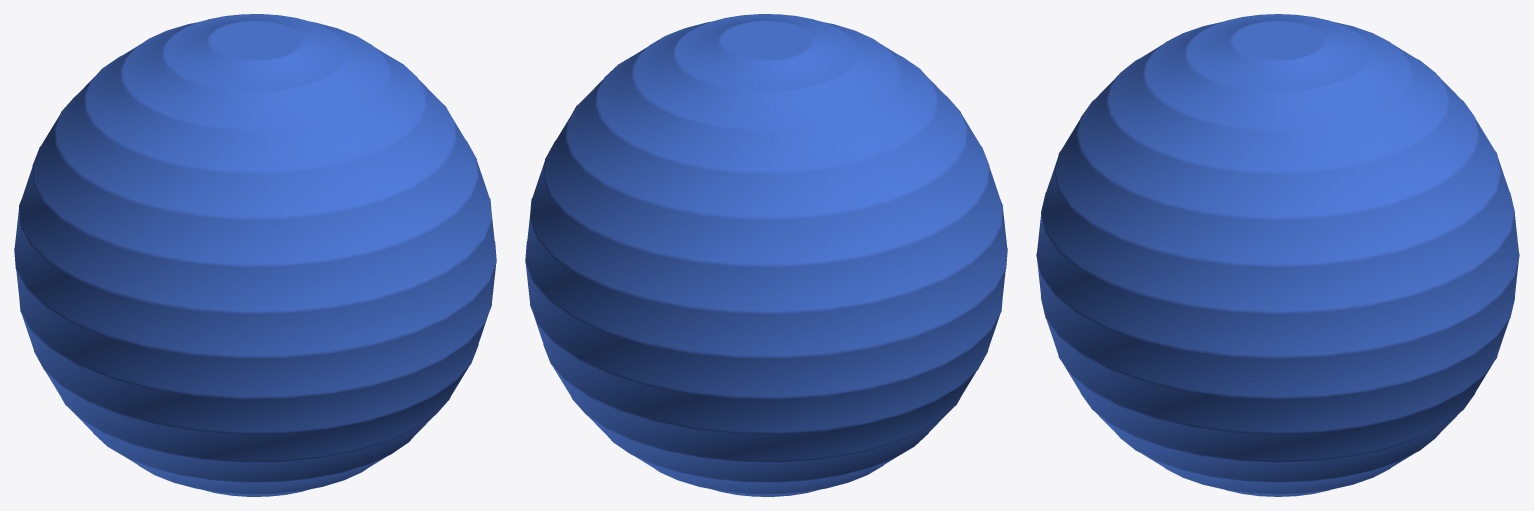
Rendered from Exercise ball.fbx.
The picture shows the model from 3 angles, left to right: view 1: azimuth 30°, elevation 25°; view 2: azimuth 150°, elevation 25°; view 3: azimuth 270°, elevation 25°; orthographic projection.
Parts seen in each view (by area): view 1: Exercise ball; view 2: Exercise ball; view 3: Exercise ball.
Part boxes in pixels (left/top/right/bottom): Exercise ball: left=14, top=14, right=496, bottom=496; Exercise ball: left=525, top=14, right=1007, bottom=496; Exercise ball: left=1036, top=14, right=1519, bottom=496.
Size of the model in its own units: 130 by 130 by 130.
Materials: 1 (1 with a texture image).
